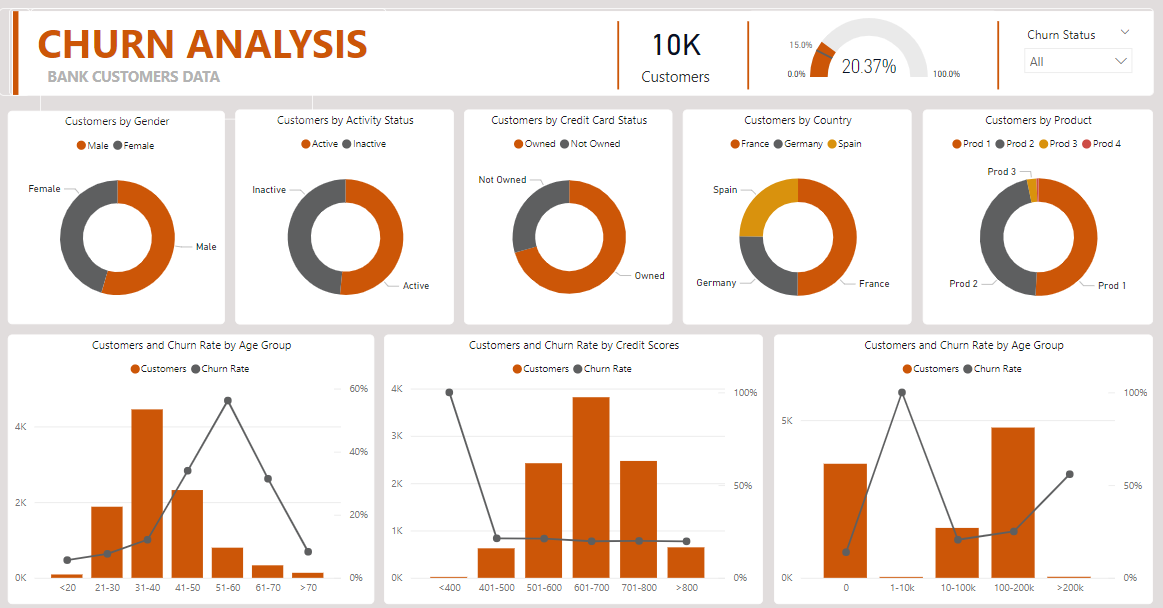

The page's visual inventory and layout, read from the dashboard file:
{"tool":"powerbi","page":{"name":"Churn Analysis","canvas":[1280,720],"ordinal":0},"visuals":[{"type":"shape","box":[11,56.3,1257,96.1],"z":0},{"type":"card","fields":{"Values":["Measures (2).Customers"]},"box":[661.4,61.7,160.5,83.7],"z":1000},{"type":"donutChart","title":"Customers by Gender","fields":{"Category":["Customer Data.Gender"],"Y":["Measures (2).Number of Customers"]},"box":[9.6,168.8,238.8,234.6],"z":2000},{"type":"donutChart","title":"Customers by Activity Status","fields":{"Y":["Measures (2).Total Customers"],"Category":["Customer Data.Activity-Status"]},"box":[259.3,167.4,240.1,236],"z":3000},{"type":"donutChart","title":"Customers by Credit Card Status","fields":{"Y":["Measures (2).Total Customers"],"Category":["Customer Data.Credit_card Status"]},"box":[510.5,167.4,229.2,236],"z":4000},{"type":"donutChart","title":"Customers by Country","fields":{"Y":["Measures (2).Total Customers"],"Category":["Customer Data.Country"]},"box":[750.6,167.4,251.1,236],"z":5000},{"type":"donutChart","title":"Customers by Product","fields":{"Y":["Measures (2).Total Customers"],"Category":["Customer Data.Products"]},"box":[1014.1,167.4,252.5,236],"z":6000},{"type":"lineStackedColumnComboChart","title":"Customers and Churn Rate by Age Group","fields":{"Category":["Age Groups.Age Group"],"Y":["Measures (2).Total Customers"],"Y2":["Measures (2).Churn Percentage"]},"box":[9.6,414.4,402.1,296.4],"z":7000},{"type":"lineStackedColumnComboChart","title":"Customers and Churn Rate by Credit Scores","fields":{"Y":["Measures (2).Total Customers"],"Y2":["Measures (2).Churn Percentage"],"Category":["Credit Scores Groups.Credit Scores"]},"box":[422.6,414.4,415.8,296.4],"z":8000},{"type":"lineStackedColumnComboChart","title":"Customers and Churn Rate by Age Group","fields":{"Y":["Measures (2).Total Customers"],"Y2":["Measures (2).Churn Percentage"],"Category":["Acct Balance Groups.Acct Balance"]},"box":[850.8,414.4,415.8,296.4],"z":9000},{"type":"slicer","fields":{"Values":["Customer Data.Churn Status"]},"box":[1112.9,67.2,144.1,70],"z":10000},{"type":"gauge","fields":{"MinValue":["Min(Customer Data.Min Churn Rate)"],"MaxValue":["Max(Customer Data.Max Churn Rate)"],"TargetValue":["Max(Customer Data.Target Churn Rate)"],"Y":["Measures (2).Churn Rate"]},"box":[822,59,274.4,83.7],"z":11000},{"type":"textbox","box":[34.3,56.3,391.1,78.2],"z":12000},{"type":"textbox","box":[45.3,111.1,299.1,67.2],"z":12001},{"type":"shape","box":[661.4,67.2,34.3,79.6],"z":12002},{"type":"shape","box":[806.9,67.2,28.8,79.6],"z":12003},{"type":"shape","box":[1078.6,67.2,34.3,79.6],"z":12004},{"type":"shape","box":[0,56.3,34.3,96.1],"z":12005}]}

Visuals, with their boxes on the page's 1280x720 design canvas (x1, y1, x2, y2). These are canvas units, not pixel positions in the 1163x608 screenshot, which may show the page scaled, cropped or inside an application window:
shape: 11,56,1268,152
card - Measures (2).Customers: 661,62,822,145
"Customers by Gender" donutChart: 10,169,248,403
"Customers by Activity Status" donutChart: 259,167,499,403
"Customers by Credit Card Status" donutChart: 510,167,740,403
"Customers by Country" donutChart: 751,167,1002,403
"Customers by Product" donutChart: 1014,167,1267,403
"Customers and Churn Rate by Age Group" lineStackedColumnComboChart: 10,414,412,711
"Customers and Churn Rate by Credit Scores" lineStackedColumnComboChart: 423,414,838,711
"Customers and Churn Rate by Age Group" lineStackedColumnComboChart: 851,414,1267,711
slicer - Customer Data.Churn Status: 1113,67,1257,137
gauge - Min(Customer Data.Min Churn Rate) x Max(Customer Data.Max Churn Rate): 822,59,1096,143
textbox: 34,56,425,134
textbox: 45,111,344,178
shape: 661,67,696,147
shape: 807,67,836,147
shape: 1079,67,1113,147
shape: 0,56,34,152
